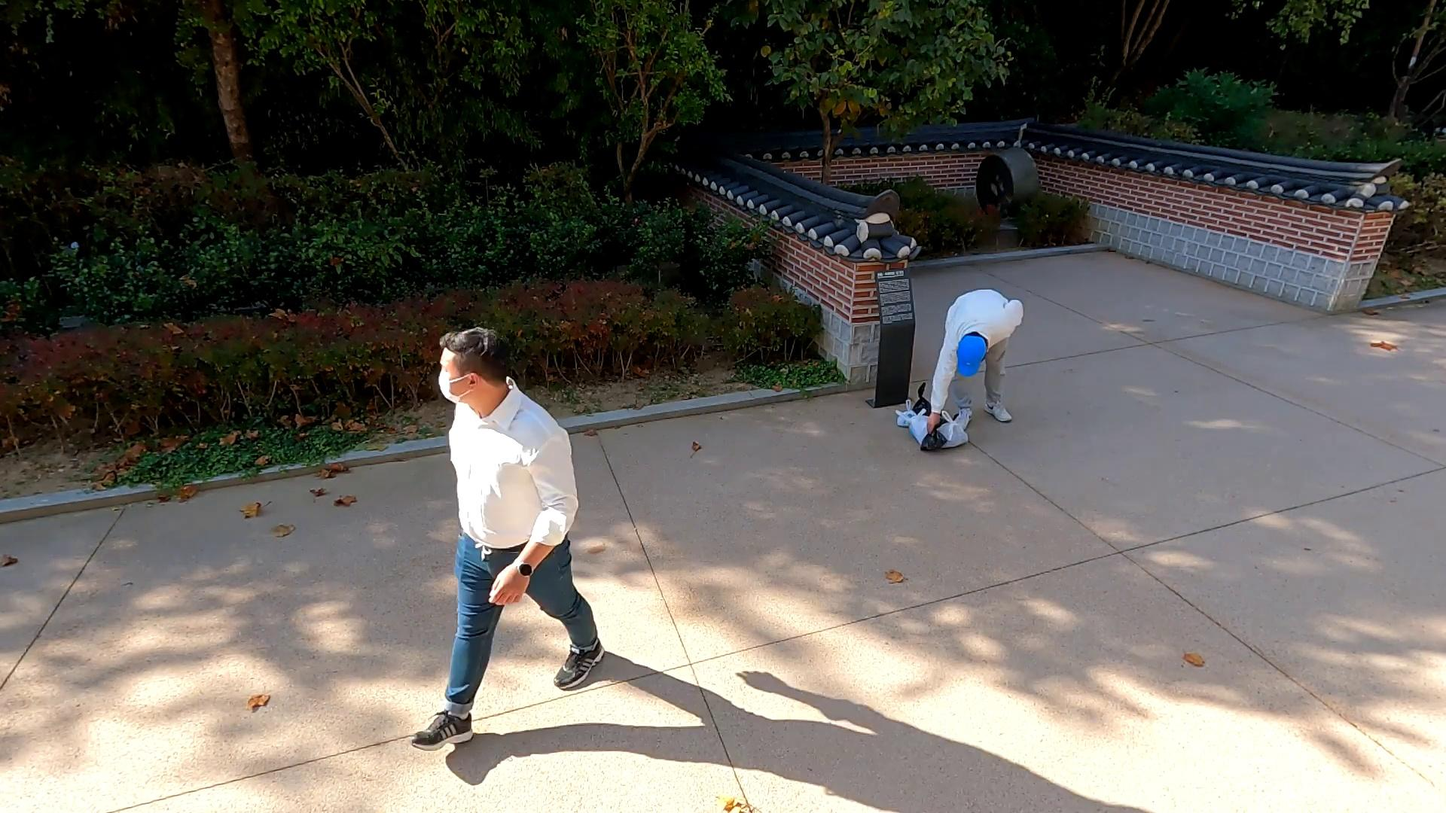person: (401, 311, 611, 751), (924, 285, 1026, 433)
trash: (931, 410, 969, 447), (905, 408, 932, 446), (921, 421, 945, 455), (913, 381, 931, 420), (893, 399, 918, 427)
